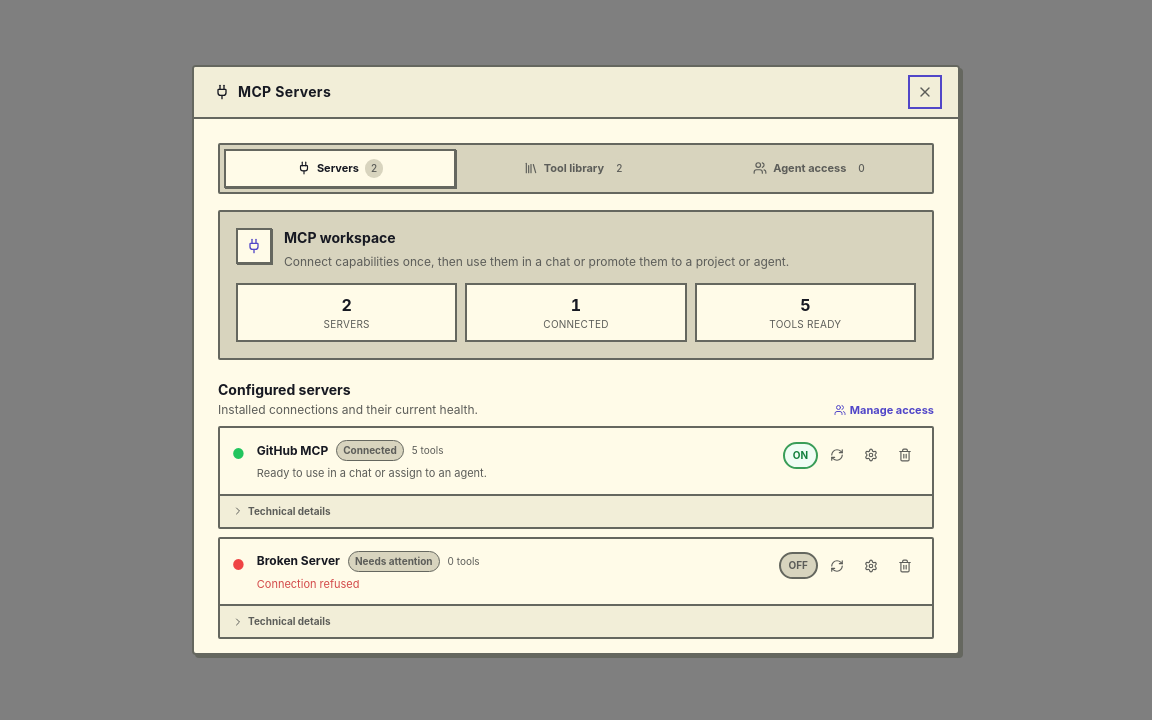
Test: McpServerPanel — Rendering › organizes the tool library by server with capability and risk metadata
Click the button "Tool library 2" at (576, 168), box top-left (460, 149), bottom-right (692, 188)
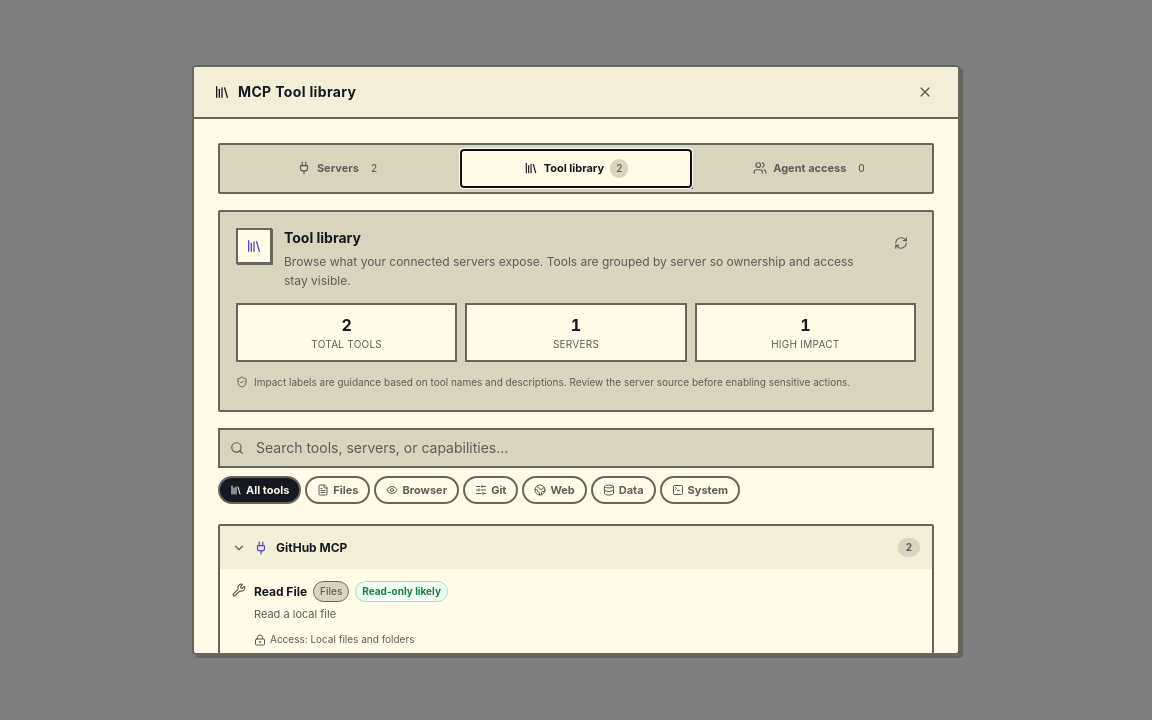
Now the text "Read File" is shown, box top-left (254, 584), bottom-right (307, 600)
Now the text "High impact" is shown, box top-left (771, 338), bottom-right (840, 350)
Now the text "Access: Local files and folders" is shown, box top-left (254, 632), bottom-right (414, 647)
